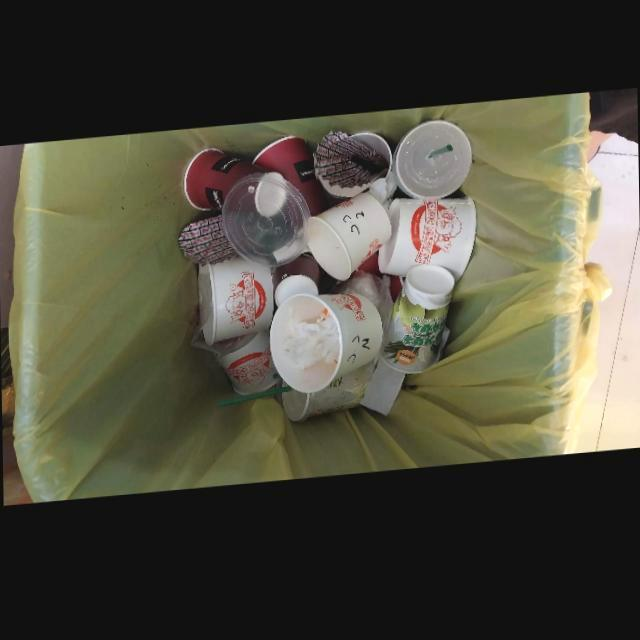cardboard: (270, 298, 384, 398), (378, 203, 476, 292), (380, 270, 454, 380), (306, 198, 391, 286), (197, 263, 273, 349), (251, 140, 329, 221), (280, 363, 375, 427), (313, 136, 389, 203), (183, 151, 254, 213), (219, 334, 280, 399), (177, 218, 237, 270), (272, 257, 321, 312)
plastic_container: (220, 176, 312, 271), (392, 127, 472, 206)
